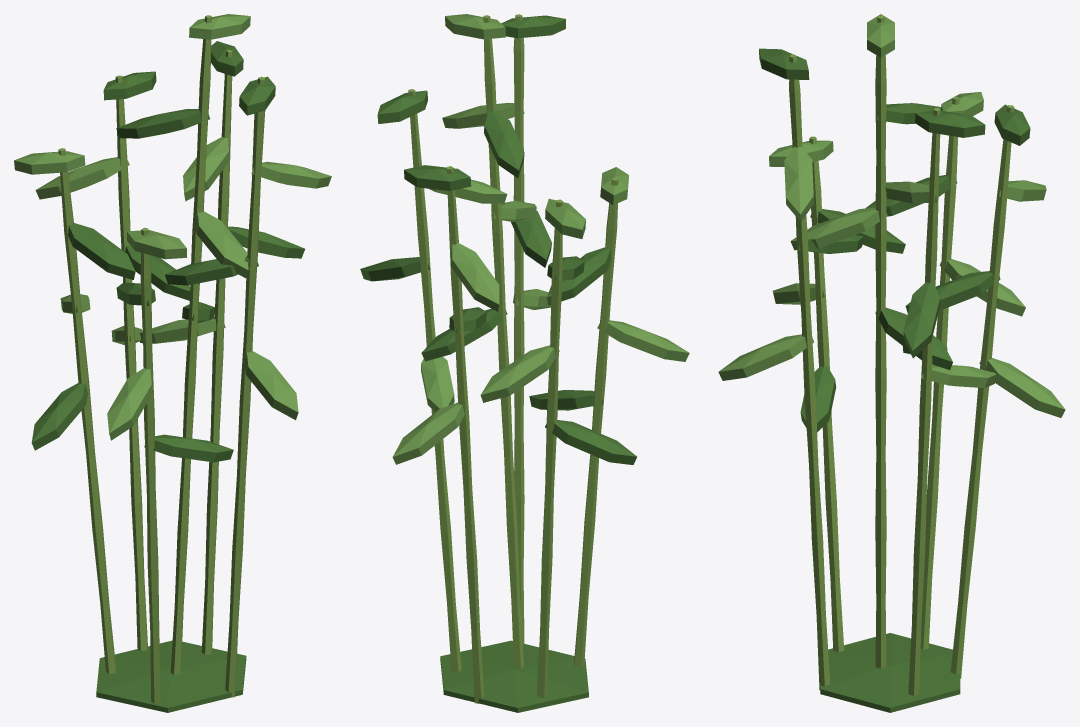
File: bamboo_grove.glb
3 views of the same model, side by side, from view 1: azimuth 30°, elevation 25°; view 2: azimuth 150°, elevation 25°; view 3: azimuth 270°, elevation 25° (orthographic). The views are drawn at different scales.
Visible parts, largest first — view 1: bamboo_grove; view 2: bamboo_grove; view 3: bamboo_grove.
Boxes of the visible parts, x1,y1,x2,y2 form: bamboo_grove: (14, 14, 331, 712); bamboo_grove: (360, 14, 689, 712); bamboo_grove: (718, 14, 1065, 712).
Bounding box in the file's own units: 3.52 × 8 × 3.73.
